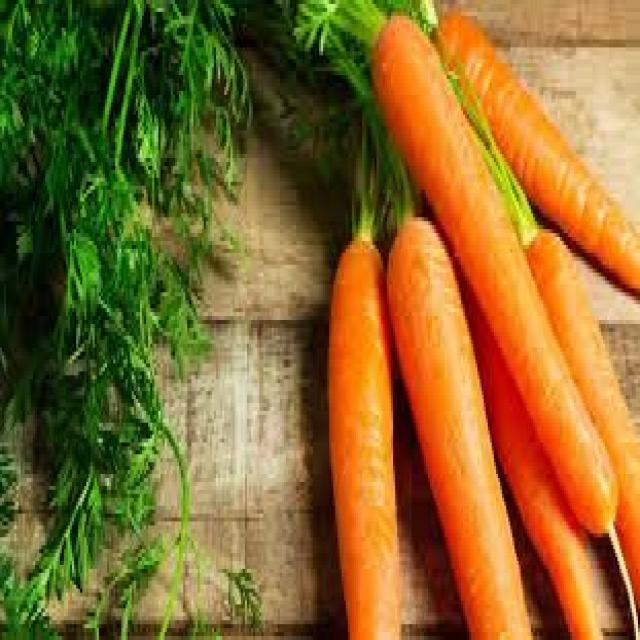Carrot: (327, 227, 393, 640)
